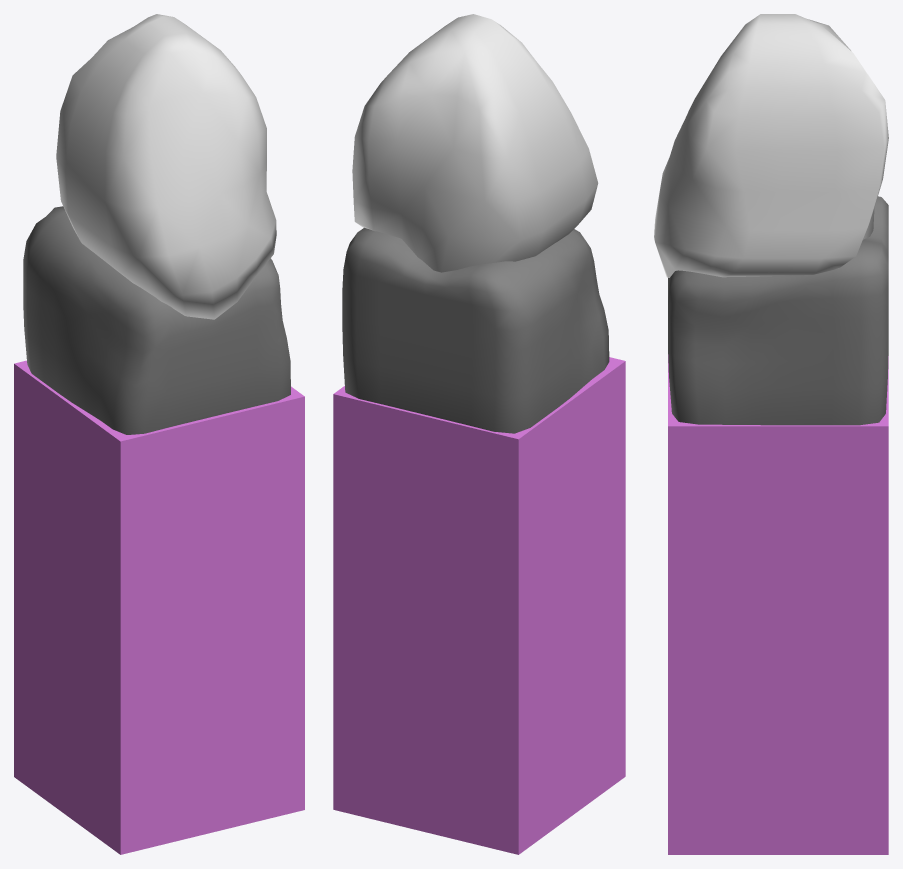
File: caillou.fbx
The picture shows the model from 3 angles, left to right: view 1: azimuth 30°, elevation 25°; view 2: azimuth 150°, elevation 25°; view 3: azimuth 270°, elevation 25°; orthographic projection. The views are drawn at different scales.
Parts seen in each view (by area): view 1: support, Box003, Box002; view 2: support, Box003, Box002; view 3: support, Box003, Box002.
Part boxes in pixels (x1,y1,x2,y2): support: (14,360,304,854); Box003: (56,14,276,319); Box002: (23,206,290,434); support: (333,357,625,854); Box003: (352,14,598,272); Box002: (342,227,609,433); support: (668,354,888,854); Box003: (654,14,888,277); Box002: (668,196,888,425).
Bounding box in the file's own units: 70.28 × 277 × 74.5.
